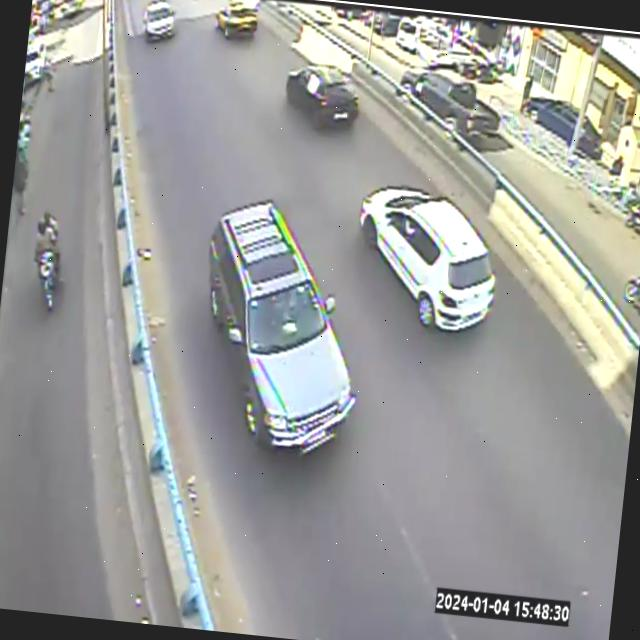car: (208, 198, 355, 452), (359, 185, 494, 331), (359, 185, 494, 330), (286, 64, 358, 128), (285, 64, 358, 127), (216, 0, 259, 37), (142, 0, 174, 40)
